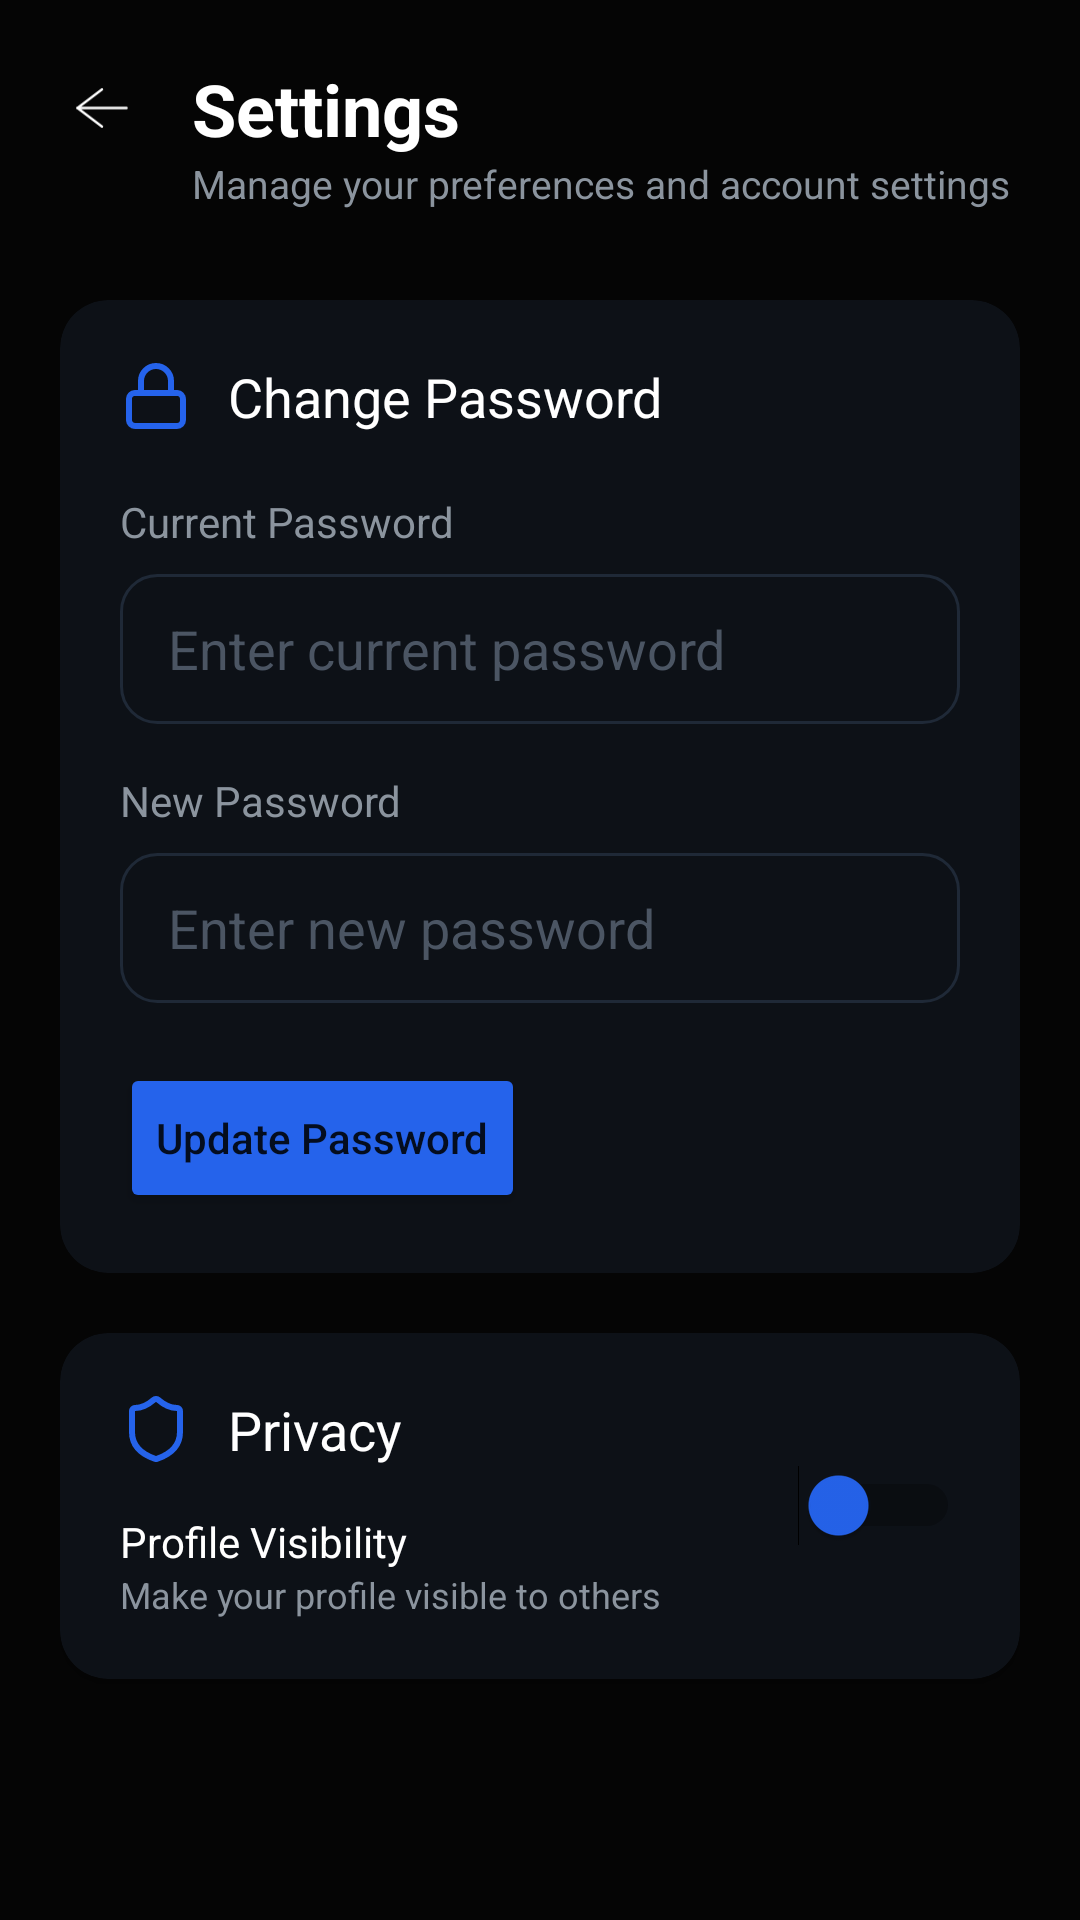

Where to tap for icons on this 1080px x 1920px app screen, as [x,y]:
back: [102,108]
lock: [156,396]
